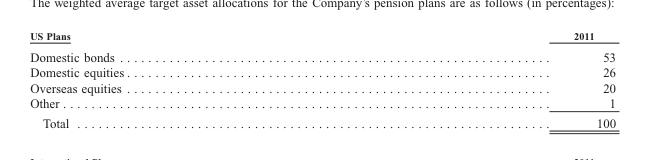table: (29, 29, 615, 129)
table column: (29, 29, 351, 129), (351, 29, 615, 129)
table row: (29, 45, 615, 64), (29, 95, 615, 112), (29, 112, 615, 129), (29, 29, 615, 45), (29, 79, 615, 95), (29, 64, 615, 79)
